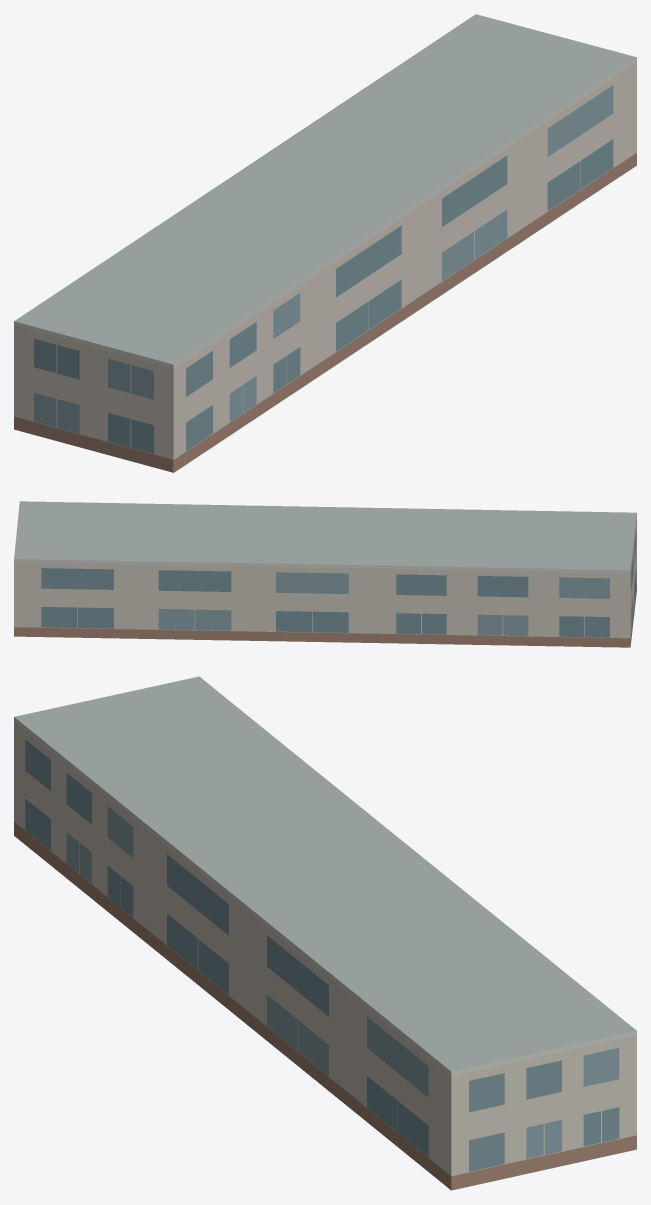
The model's file is survey-upis-32484561.glb.
The picture shows the model from 3 angles, top to bottom: view 1: azimuth 30°, elevation 25°; view 2: azimuth 150°, elevation 25°; view 3: azimuth 270°, elevation 25°; orthographic projection. The views are drawn at different scales.
Visible parts, largest first — view 1: survey-upis-32484561.tmp; view 2: survey-upis-32484561.tmp; view 3: survey-upis-32484561.tmp.
Part boxes in pixels (left/top/right/bottom): survey-upis-32484561.tmp: left=14, top=14, right=636, bottom=472; survey-upis-32484561.tmp: left=14, top=501, right=636, bottom=647; survey-upis-32484561.tmp: left=14, top=676, right=636, bottom=1190.
Size of the model in its own units: 43.51 by 6.1 by 28.98.
